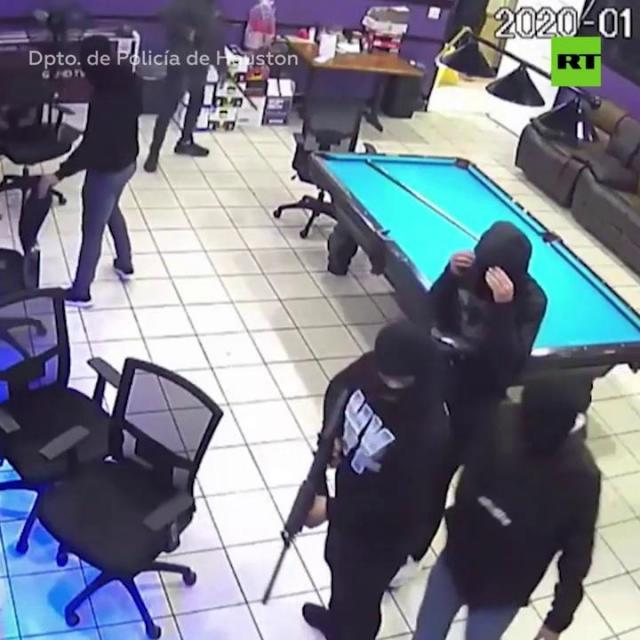weapon: (246, 373, 368, 614)
